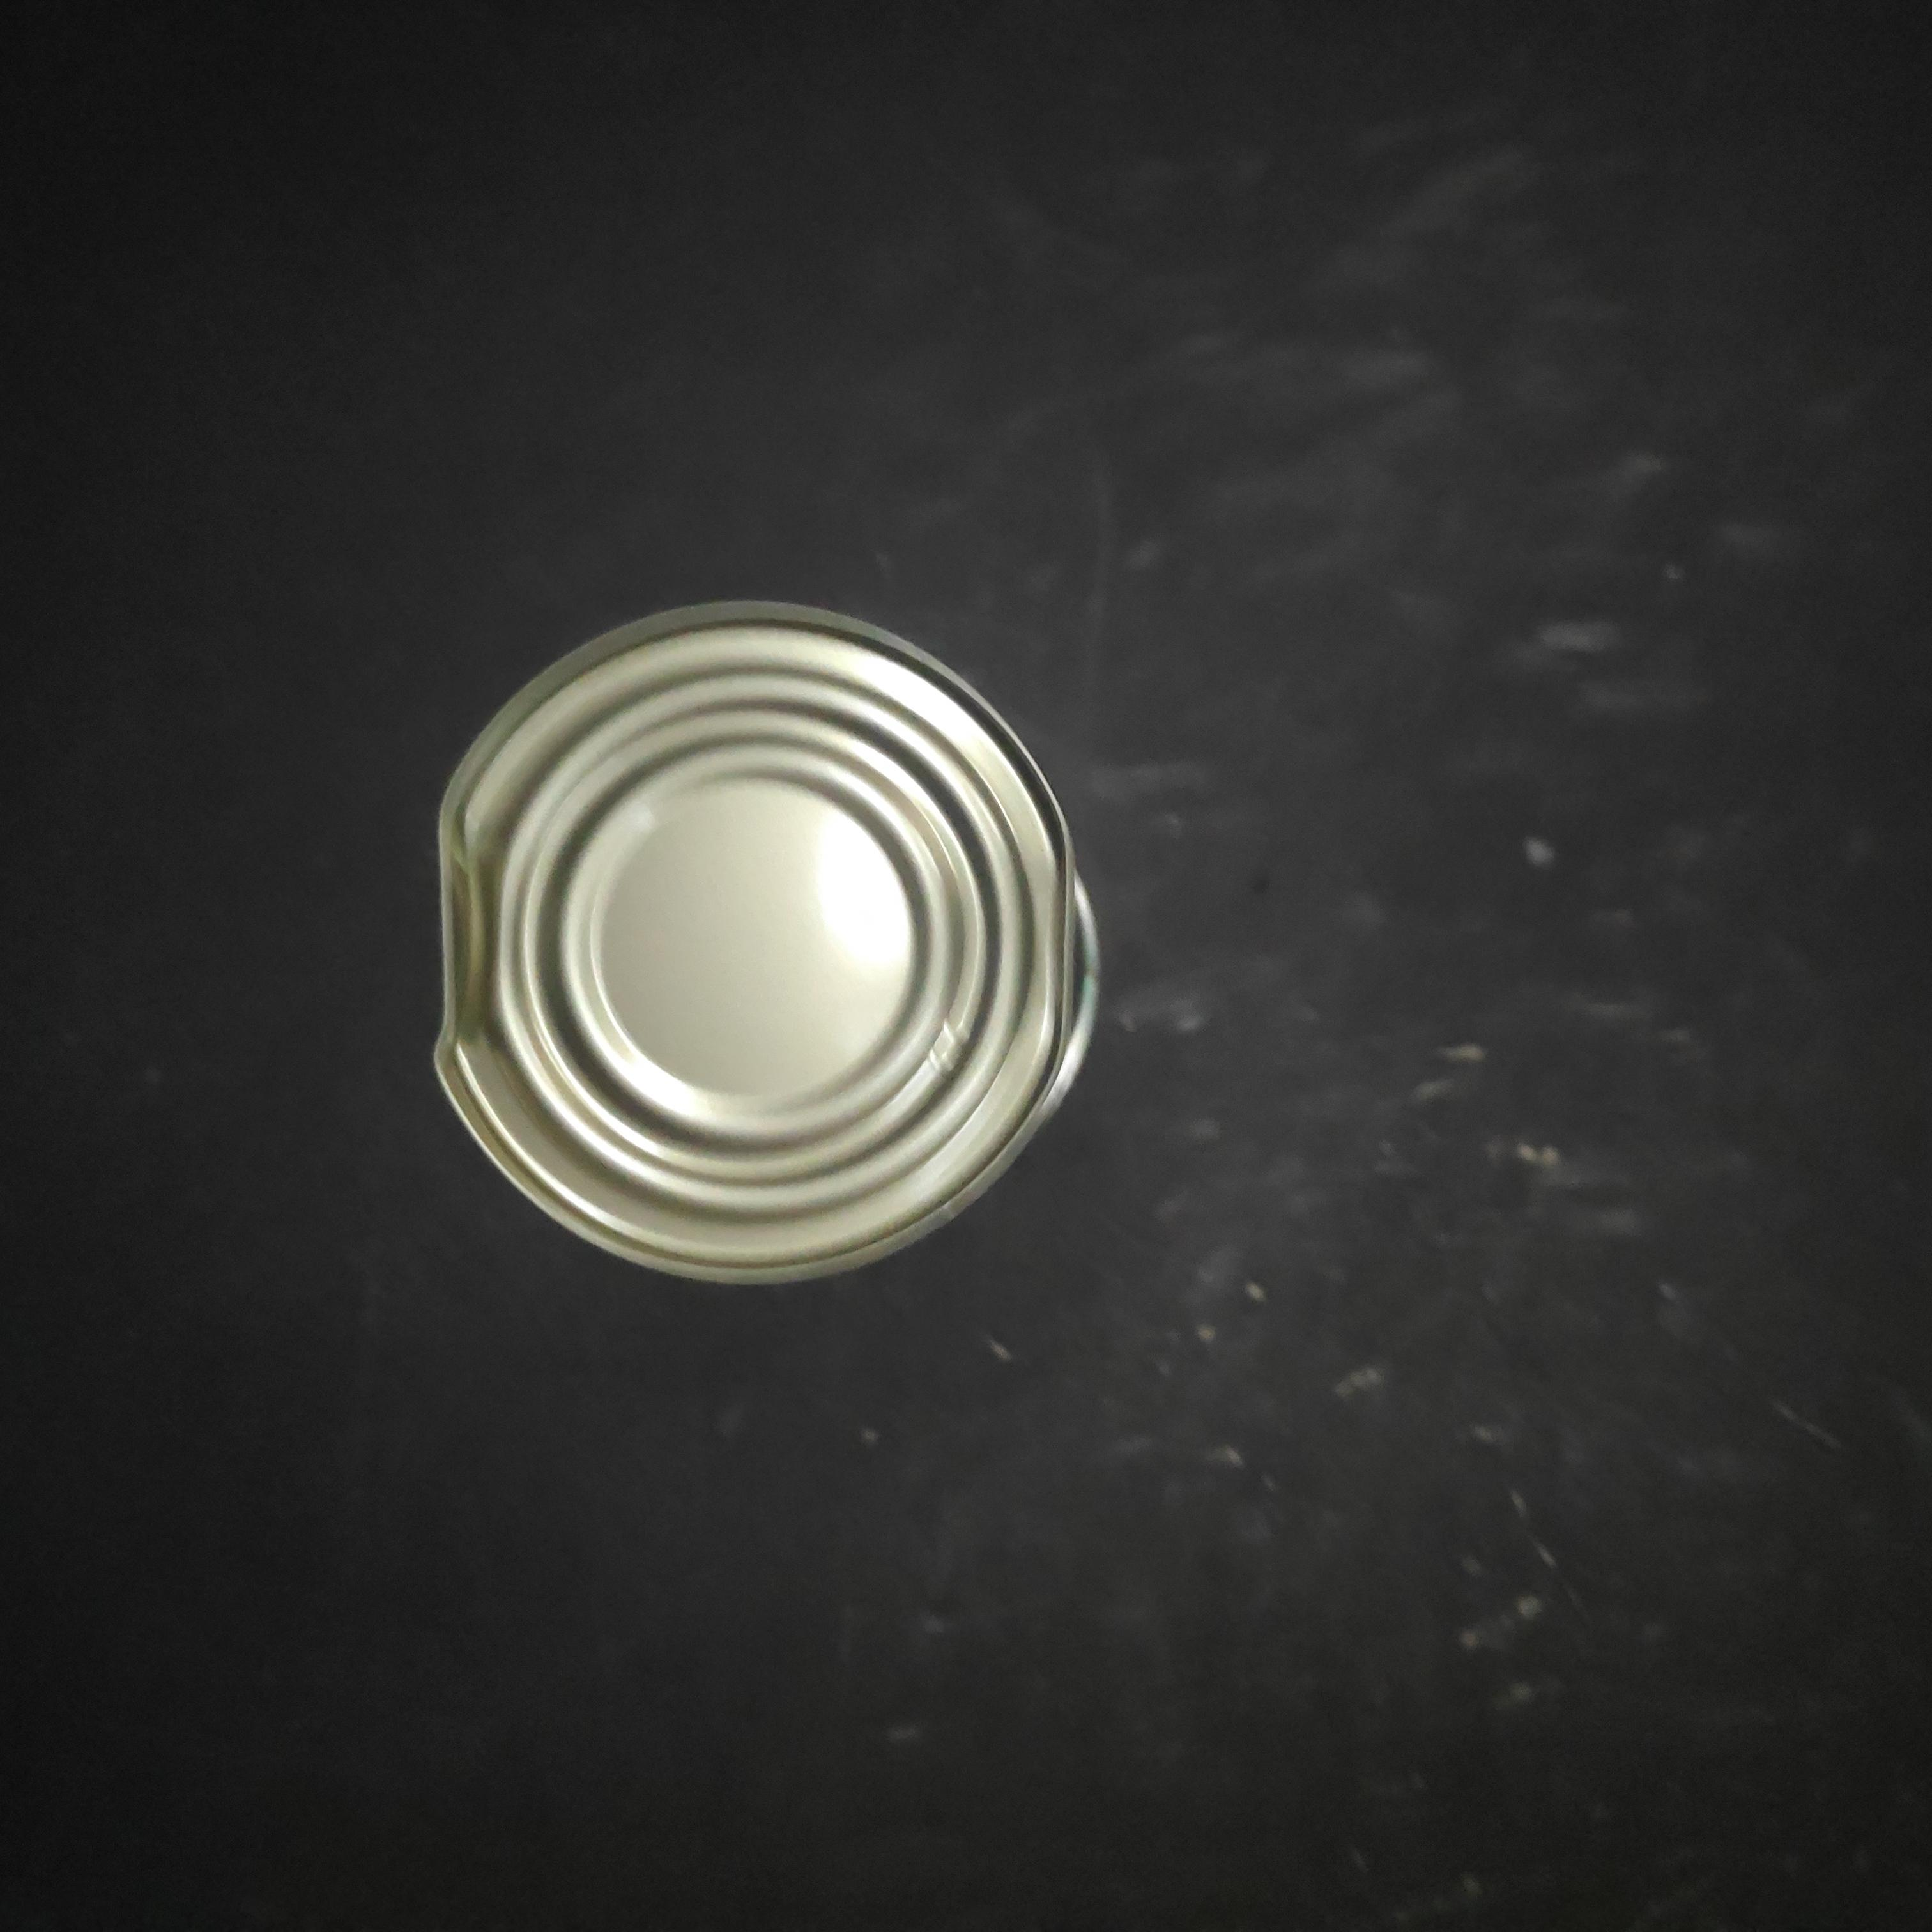Minor Defect: (842, 630, 1523, 1348)
